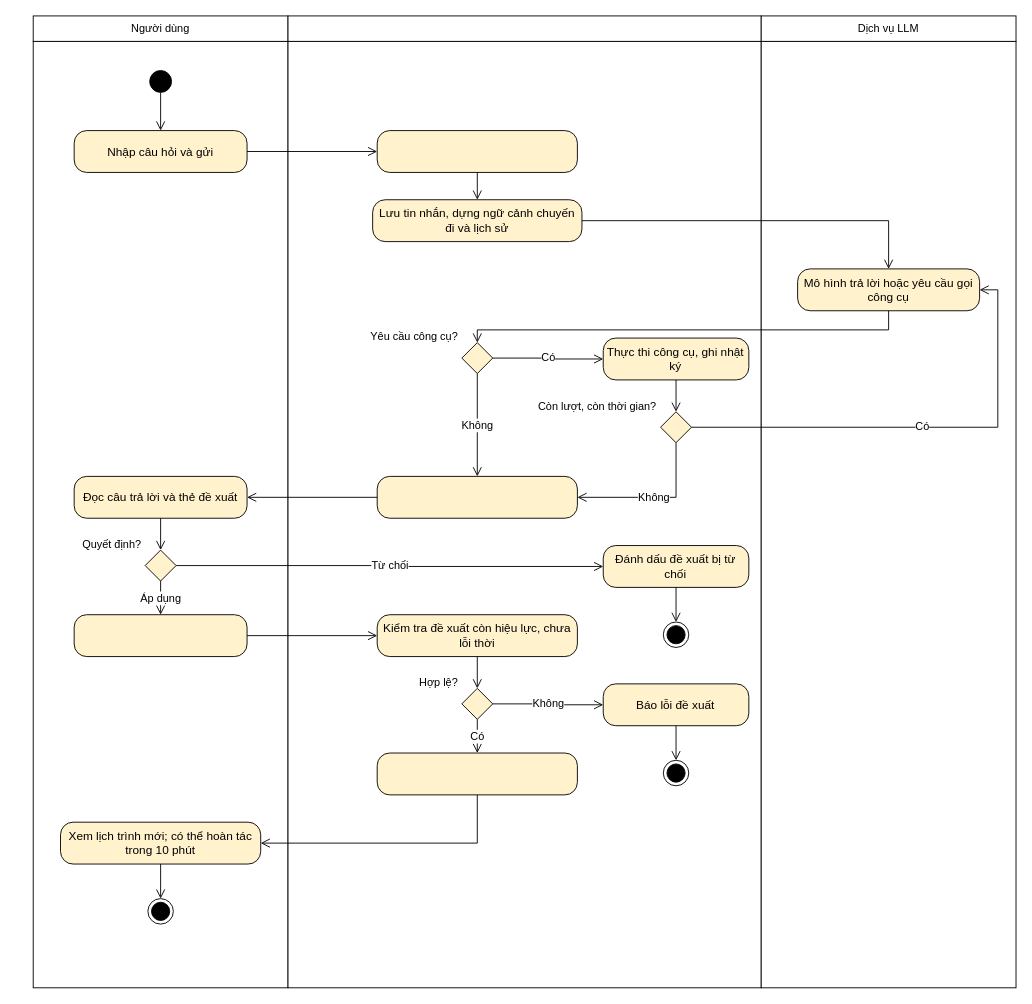
Image size: 1032x1004. Some labels were removed from this diagram. Here are the shapes that lost their labels. From the top down, the centre of each, then its label:
At [524,28]: "Hệ thống".
At [476,151]: "Kiểm tra quyền, cấu hình AI, lượt dùng".
At [476,496]: "Truyền dần câu trả lời, lưu tin nhắn".
At [160,635]: "Nhấn “Áp dụng”".
At [476,773]: "Áp dụng thay đổi, lưu nhật ký hoàn tác".
